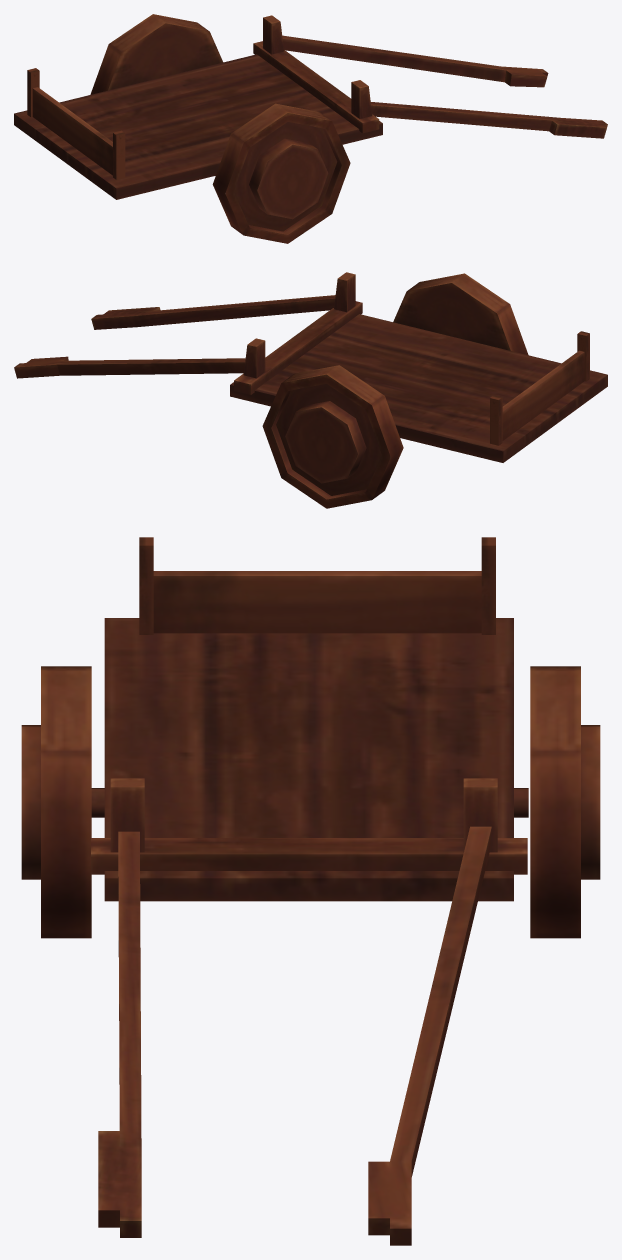
The model's file is Stage_01_01_ShouTuiChe03.FBX.
3 renders of one model, top to bottom at view 1: azimuth 30°, elevation 25°; view 2: azimuth 150°, elevation 25°; view 3: azimuth 270°, elevation 25°, orthographic. The views are drawn at different scales.
Parts seen in each view (by area): view 1: Stage_01_01_ShouTuiChe03; view 2: Stage_01_01_ShouTuiChe03; view 3: Stage_01_01_ShouTuiChe03.
Boxes of the visible parts, x1=… form: Stage_01_01_ShouTuiChe03: x1=14, y1=14, x2=607, y2=243; Stage_01_01_ShouTuiChe03: x1=14, y1=272, x2=607, y2=508; Stage_01_01_ShouTuiChe03: x1=21, y1=537, x2=600, y2=1245.
Size of the model in its own units: 622 by 155 by 310.
